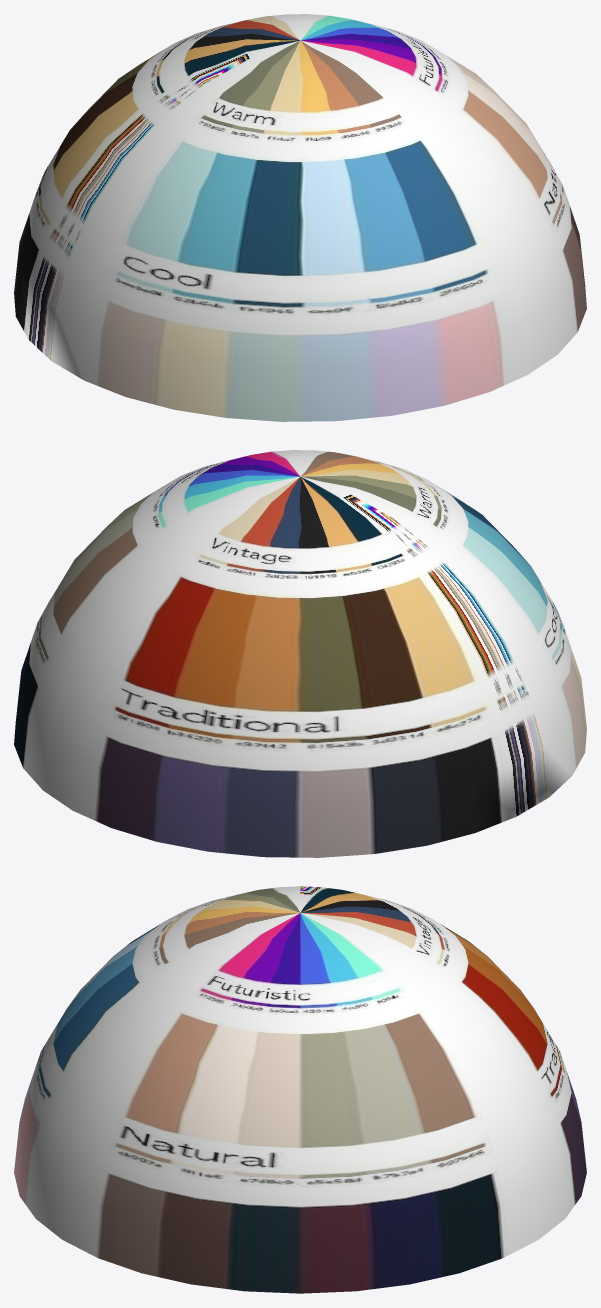
File: Roof.fbx
The picture shows the model from 3 angles, top to bottom: view 1: azimuth 30°, elevation 25°; view 2: azimuth 150°, elevation 25°; view 3: azimuth 270°, elevation 25°; orthographic projection.
Parts seen in each view (by area): view 1: Dach; view 2: Dach; view 3: Dach.
Boxes of the visible parts, box(x1,y1,x2,y2) form: Dach: box(14, 14, 586, 421); Dach: box(14, 450, 586, 857); Dach: box(14, 886, 586, 1293).
Bounding box in the file's own units: 2650 × 1325 × 2650.
